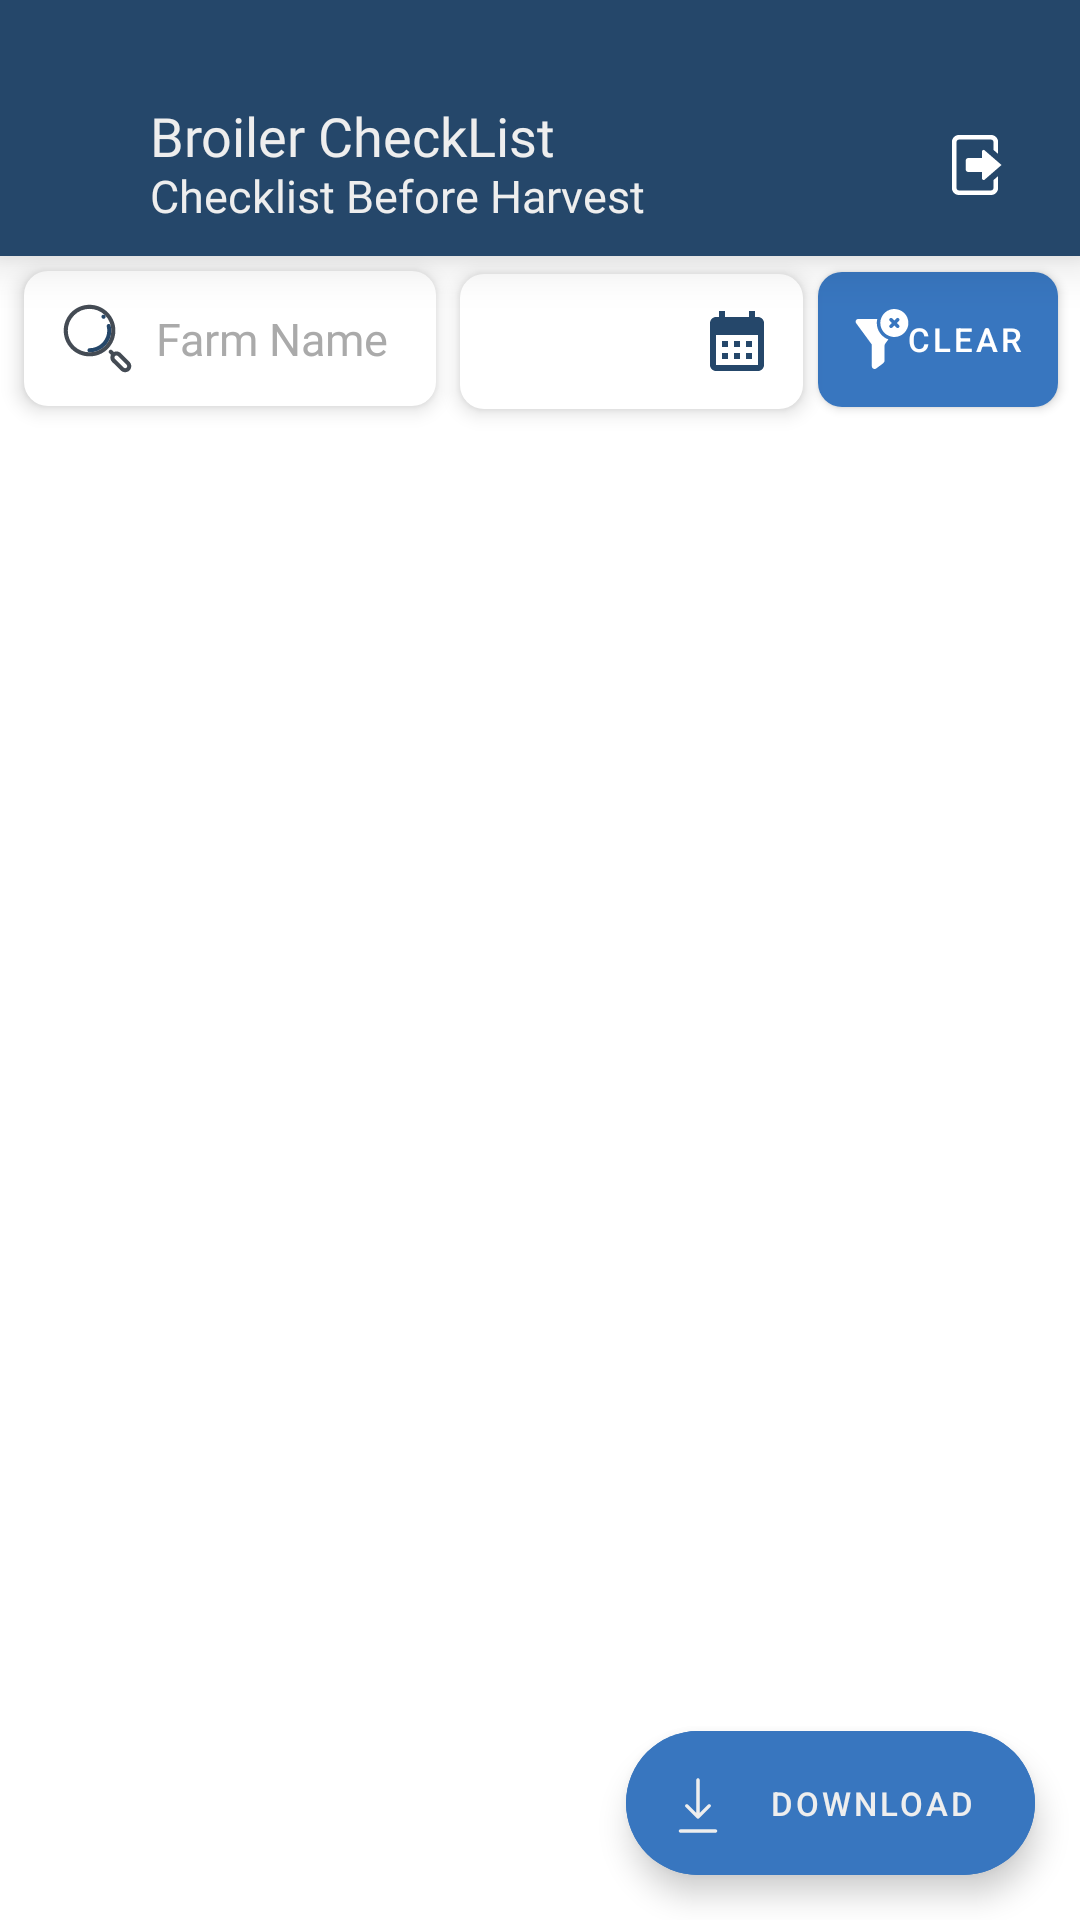

Where icons sit on this 1080w x 1920h app screen, as box=[x1, y1, x2, y2]:
exit: box=[952, 135, 1002, 195]
